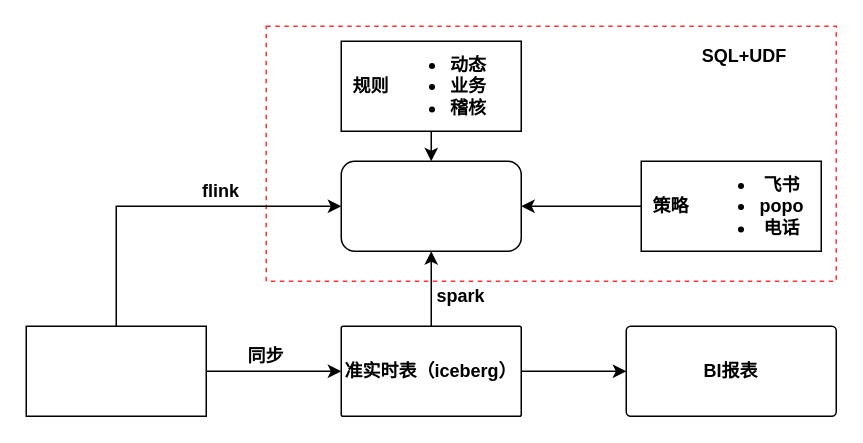
Some shapes in this 863 by 443 pixel diagram are drawn without their labels. The centre of each missing label's shape, as x and y in pixels:
报警: (x=430, y=205)
集市表（kafka）: (x=115, y=370)
